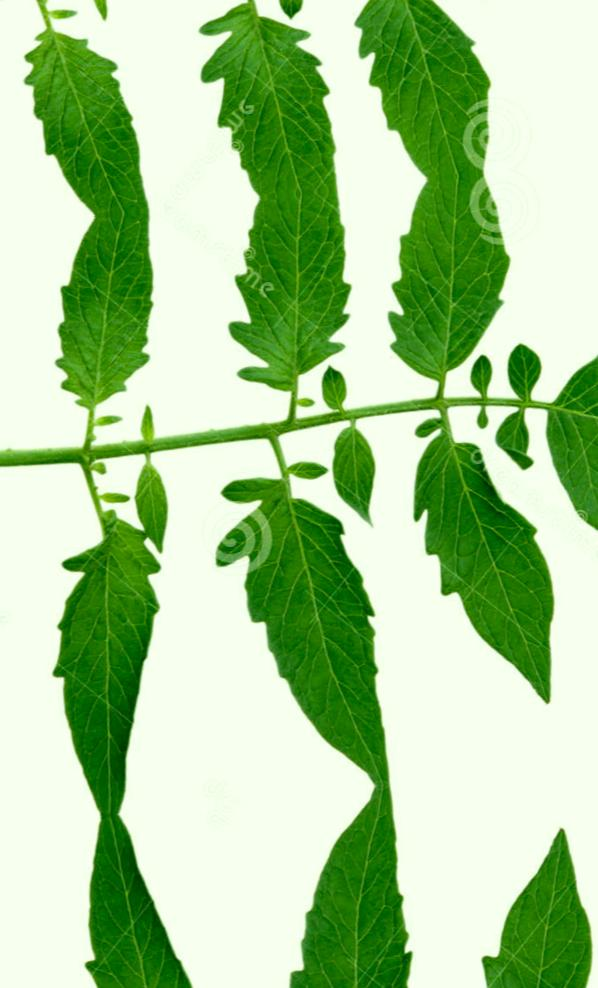Tomato leaf: (199, 483, 421, 802), (4, 492, 208, 824), (379, 398, 573, 746), (15, 205, 216, 455), (205, 187, 384, 440), (368, 168, 547, 384), (519, 307, 598, 577)
